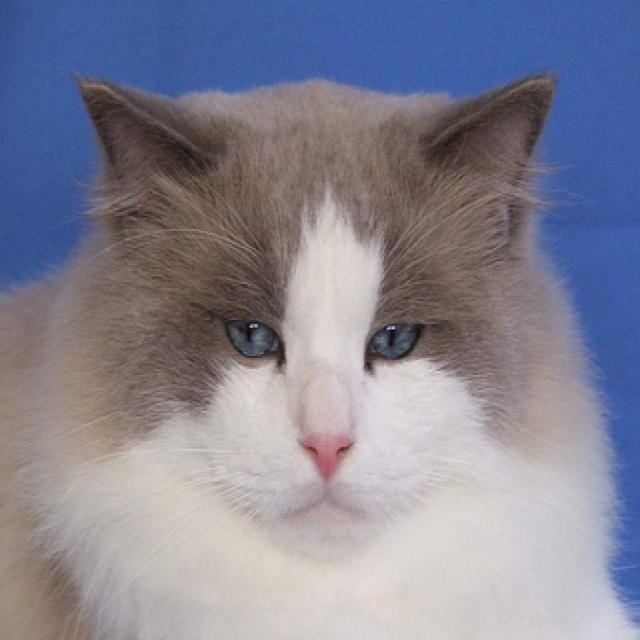Ragdoll: (0, 66, 640, 640)
